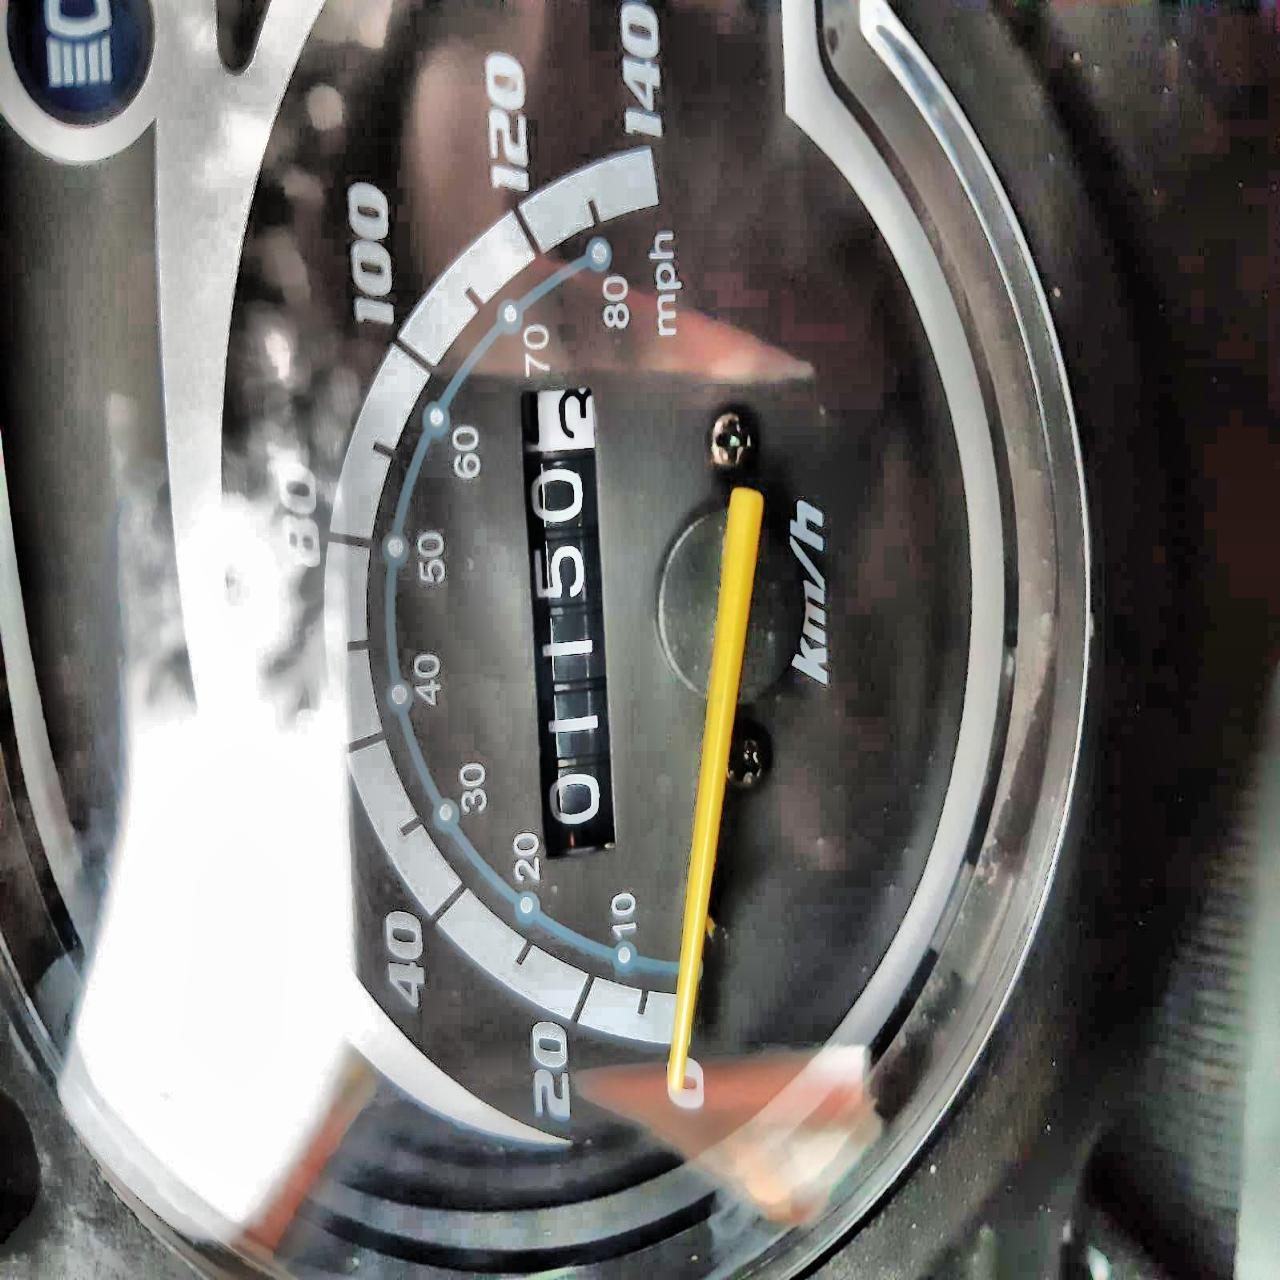0: (527, 463, 586, 525), (546, 768, 602, 828), (512, 830, 542, 857)
1: (539, 710, 606, 741), (533, 633, 600, 662)
3: (550, 382, 608, 445)
5: (527, 538, 592, 604)
odometer: (509, 374, 620, 859)
